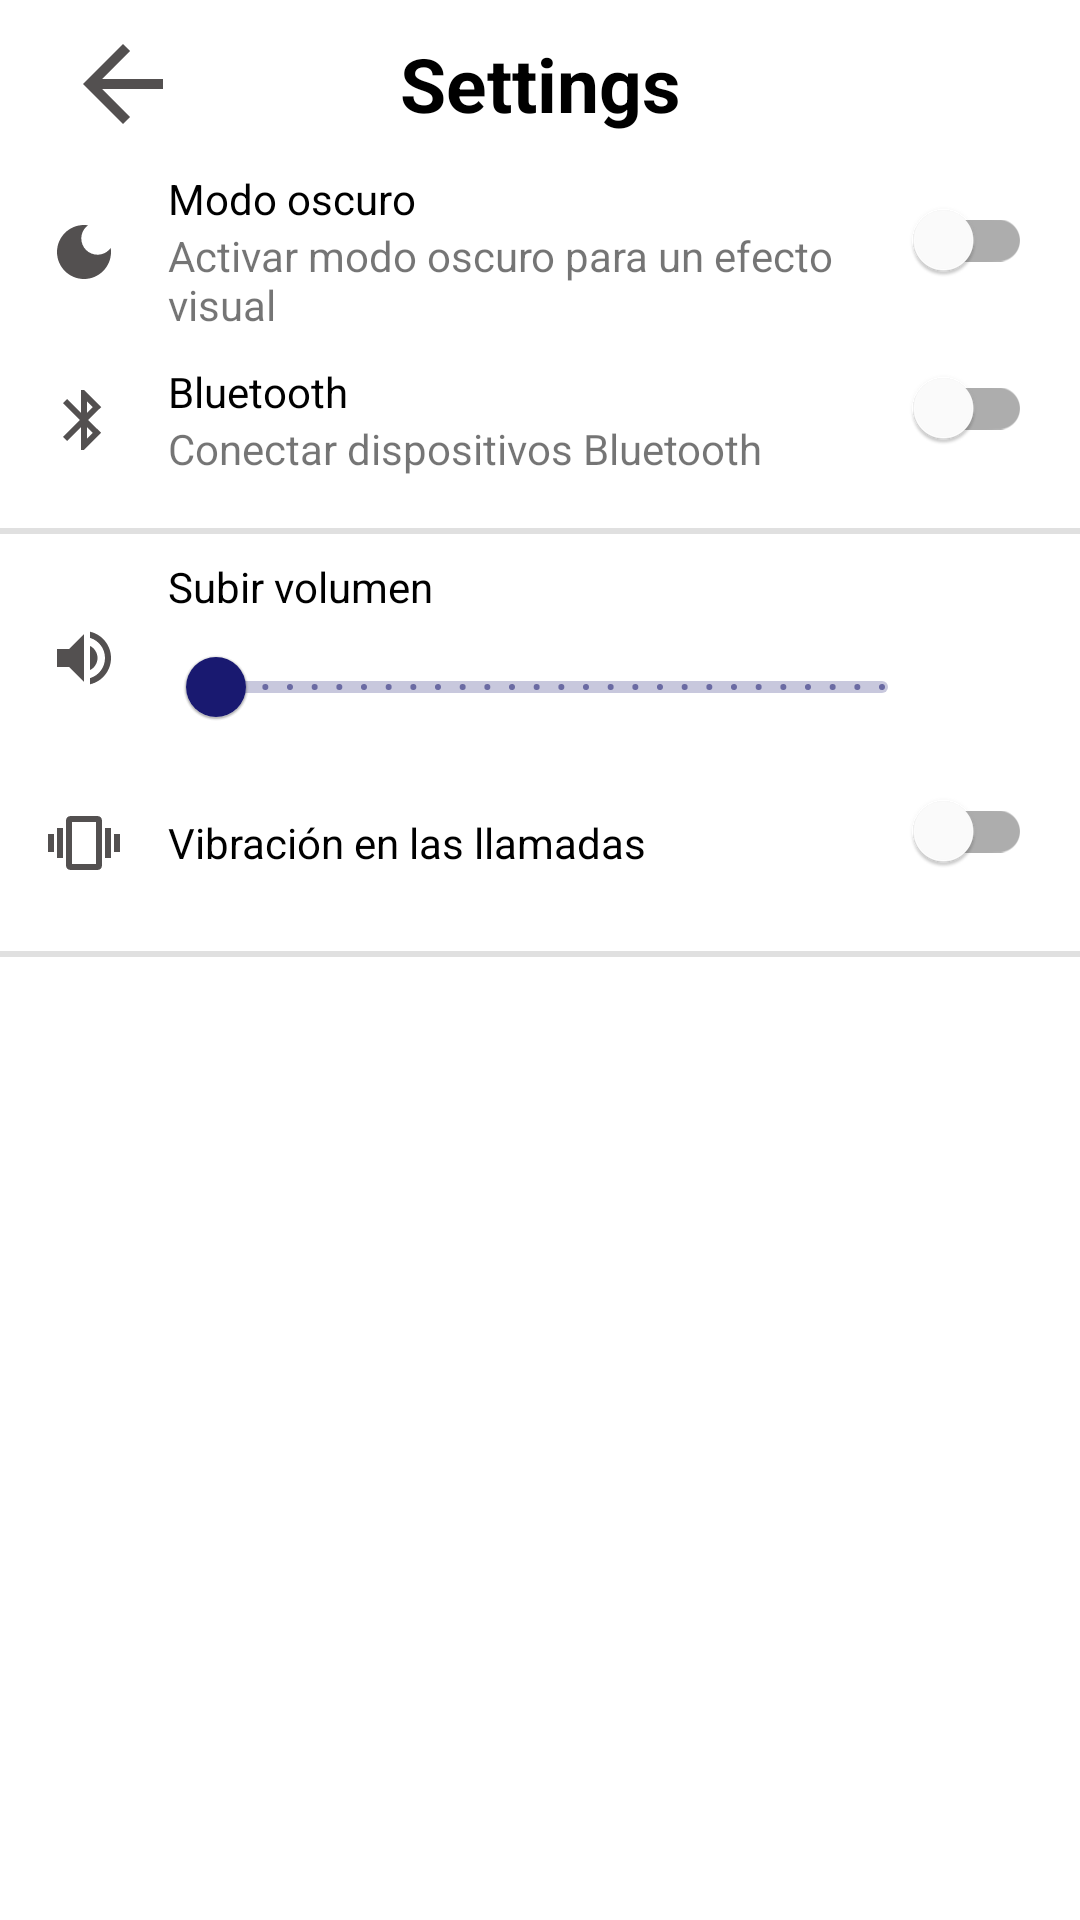

Icon click points for this 1080*1920 phone screenshot, format point (x, y):
arrow back: point (123, 84)
mode: point (84, 252)
vibration: point (84, 843)
volume up: point (84, 658)
